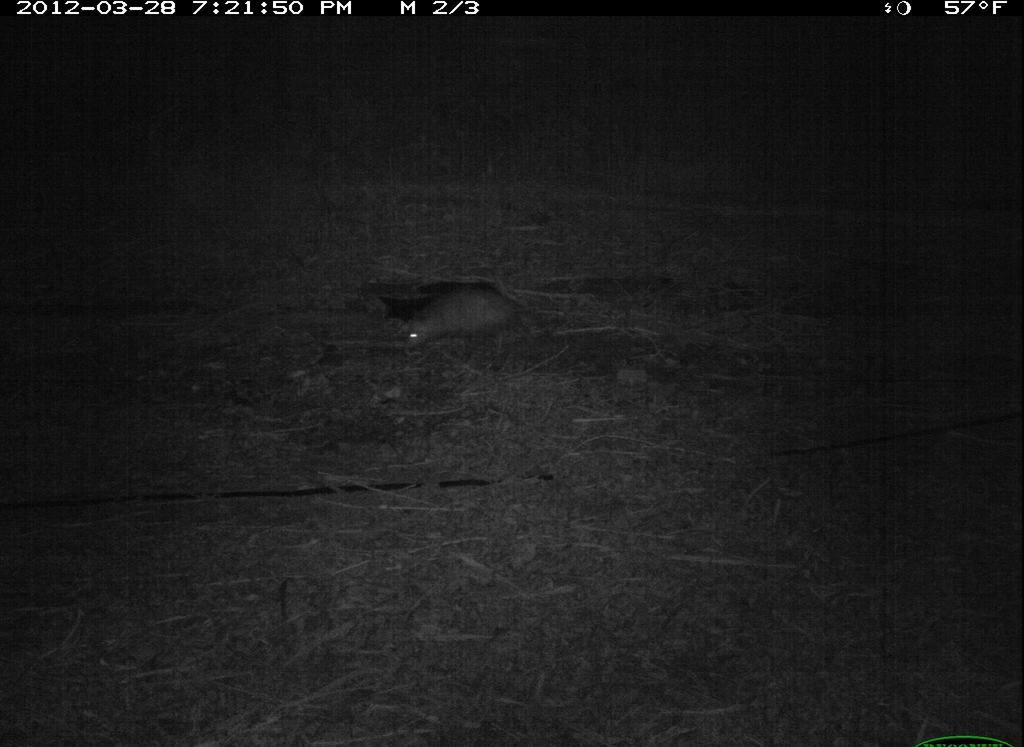opossum: (402, 285, 565, 365)
